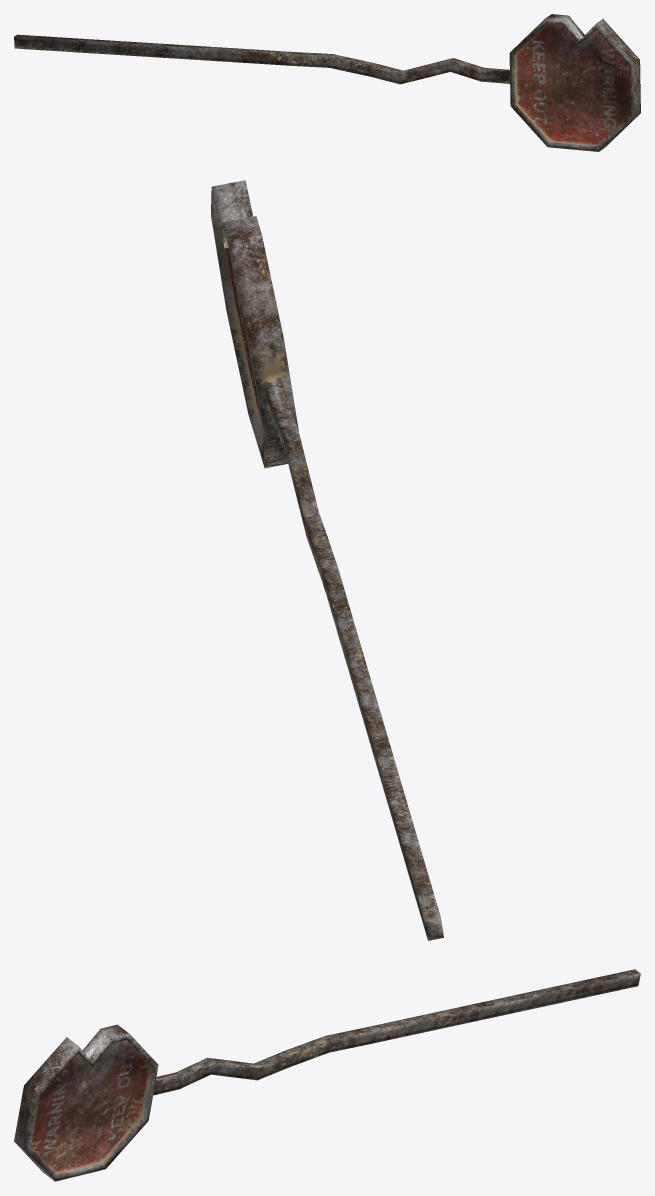
The model's file is Anim_idle_senyal_objetos.0050.obj.
3 renders of one model, top to bottom at view 1: azimuth 30°, elevation 25°; view 2: azimuth 150°, elevation 25°; view 3: azimuth 270°, elevation 25°, orthographic. The views are drawn at different scales.
Bounding box in the file's own units: 8 × 2.59 × 9.99.
